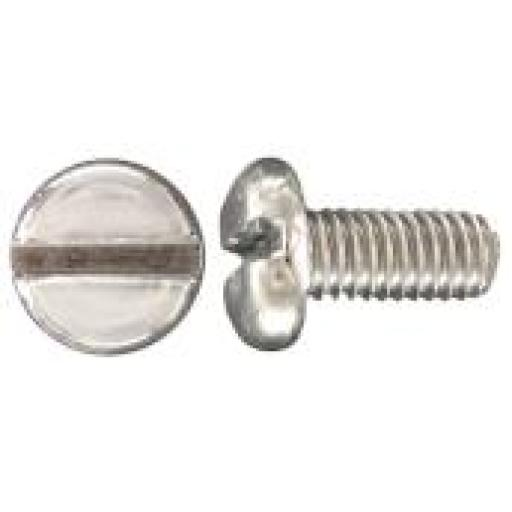Slotted: (13, 156, 201, 353)
